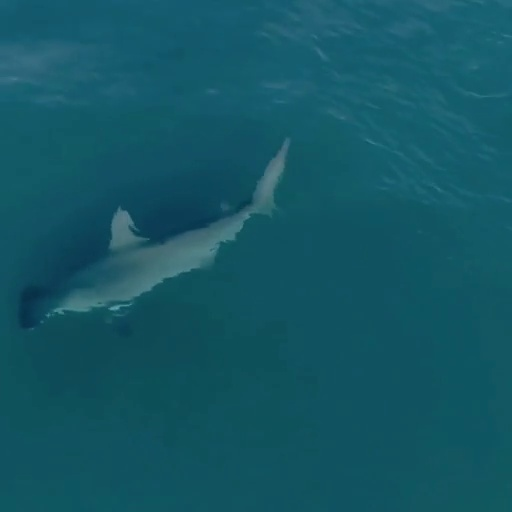shark: (18, 134, 295, 331)
